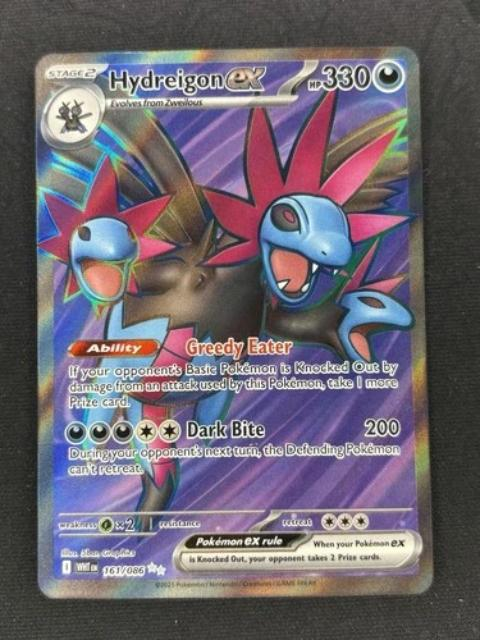Card: (29, 40, 440, 604)
Name: (104, 63, 272, 100)
